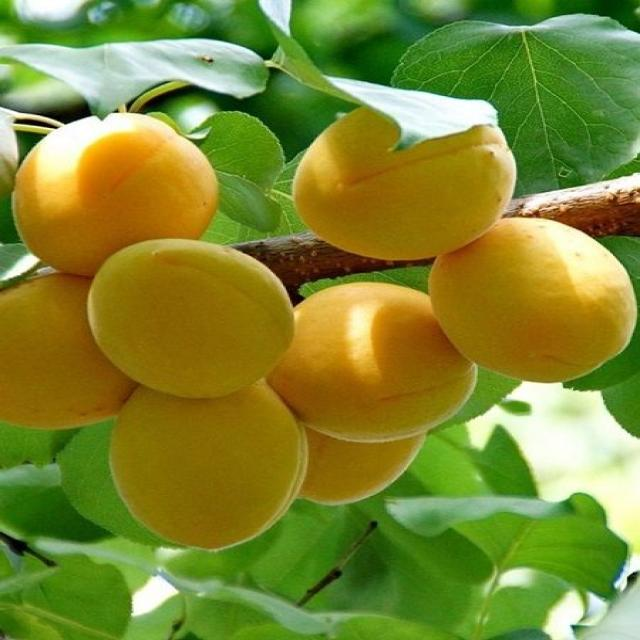kayisi: (7, 120, 640, 536)
kayisi-yapragi: (6, 6, 639, 111)
